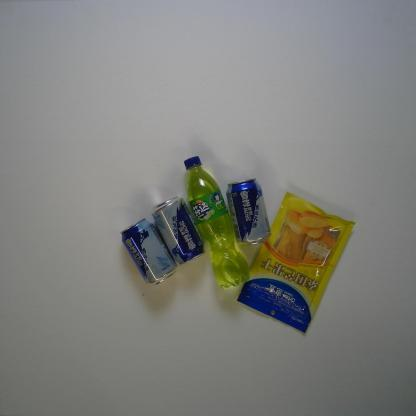Alcohol: (118, 216, 180, 288), (151, 195, 207, 266), (224, 176, 272, 247)
Dried Fruit: (234, 189, 357, 337)
Drink: (182, 156, 251, 288)
